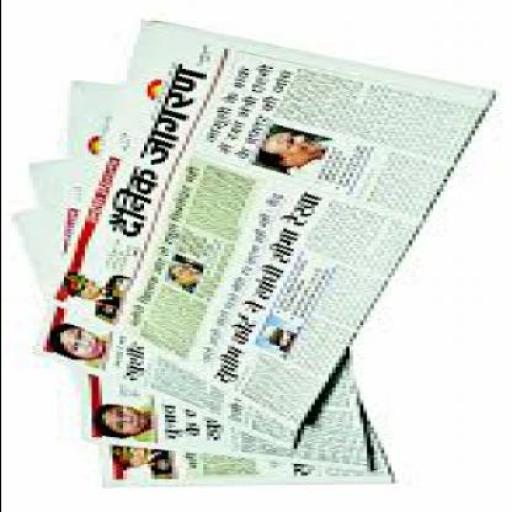paper: (25, 22, 491, 451), (60, 82, 372, 473), (7, 211, 391, 489)
